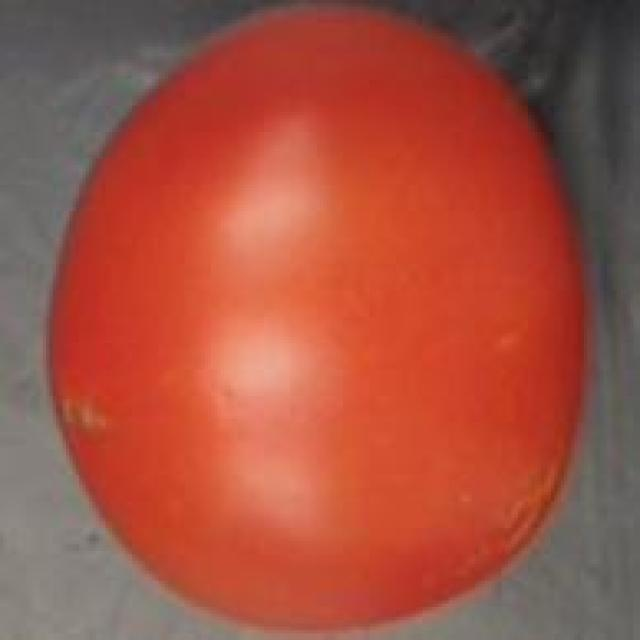ripe tomato: (30, 3, 607, 640)
